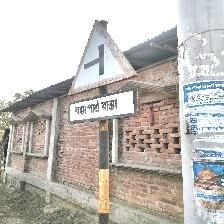Side-road-left: (67, 19, 140, 124)
